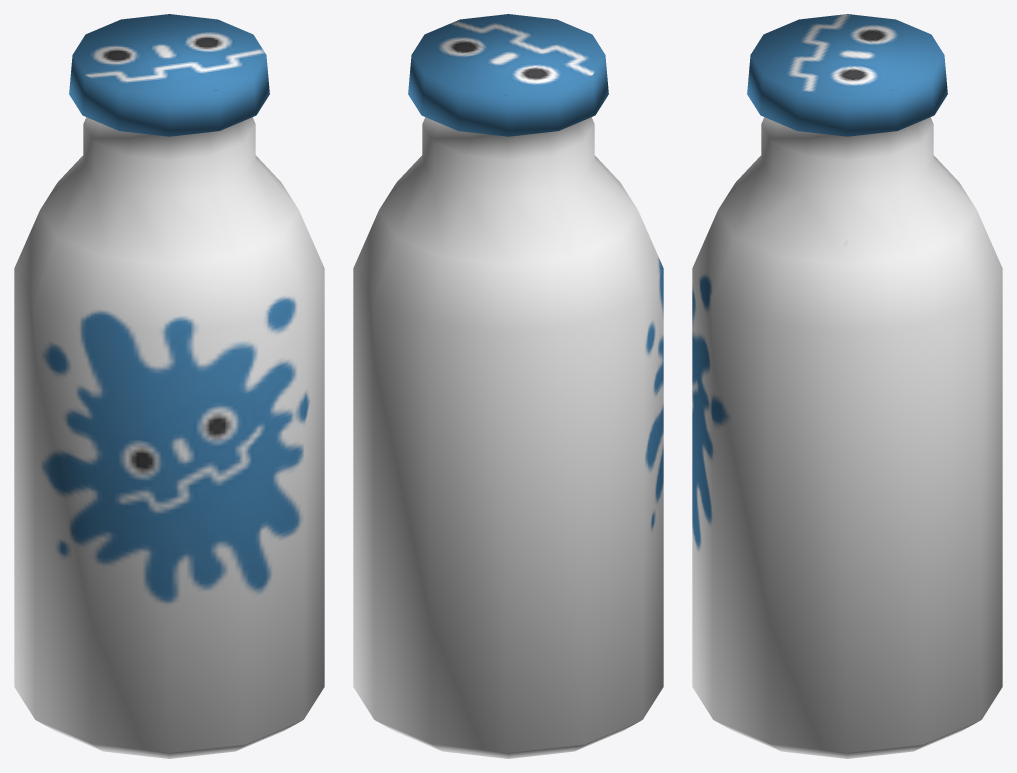
The model's file is MilkBottle.glb.
3 renders of one model, left to right at view 1: azimuth 30°, elevation 25°; view 2: azimuth 150°, elevation 25°; view 3: azimuth 270°, elevation 25°, orthographic.
Parts seen in each view (by area): view 1: MilkBottle; view 2: MilkBottle; view 3: MilkBottle.
Boxes of the visible parts, x1=… form: MilkBottle: x1=14, y1=14, x2=324, y2=758; MilkBottle: x1=353, y1=14, x2=663, y2=758; MilkBottle: x1=692, y1=14, x2=1002, y2=758.
Size of the model in its own units: 0.21 by 0.4843 by 0.21.
2 materials, 2 textured.
